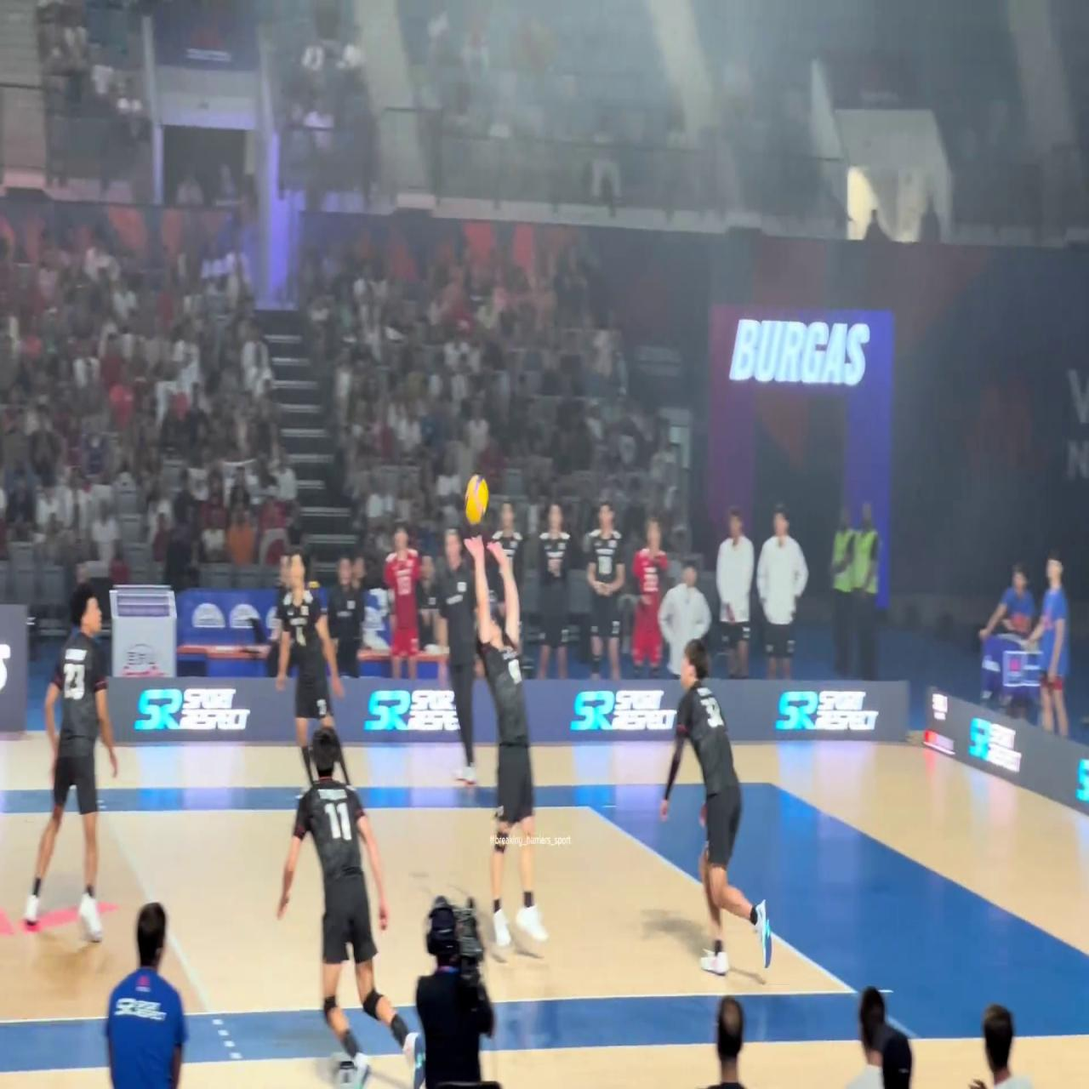ball: (465, 474, 489, 526)
